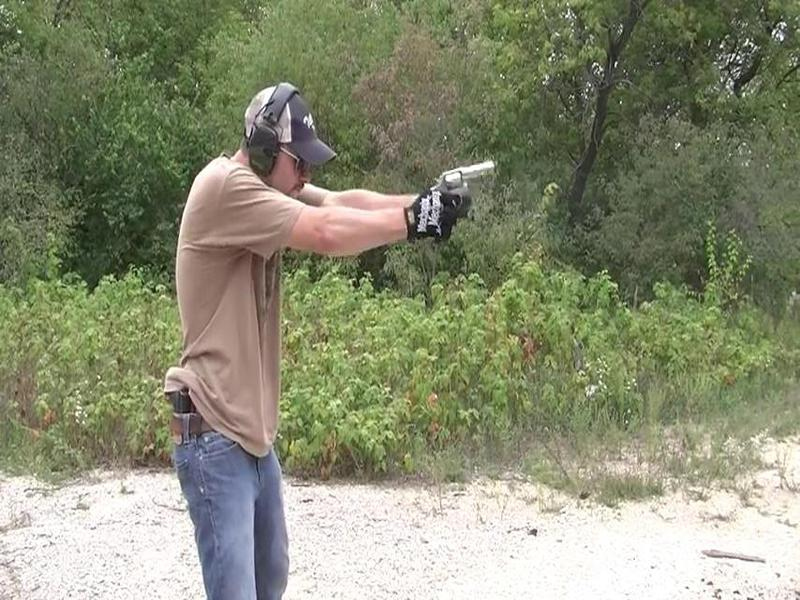Revolver: (428, 156, 512, 227)
